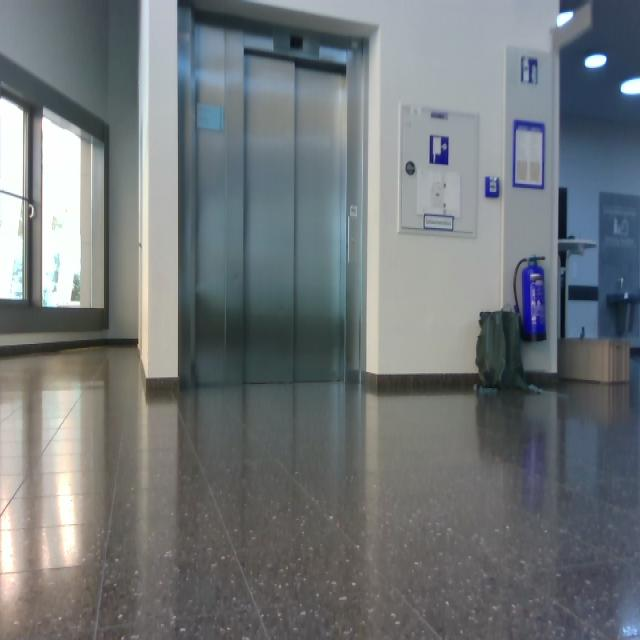door: (179, 12, 368, 387), (242, 48, 346, 384)
fire extinguisher: (513, 254, 546, 342)
light bulb: (619, 76, 639, 95), (583, 52, 606, 68), (555, 9, 573, 27), (18, 201, 34, 219)
tiled floor: (1, 342, 638, 638)
window: (0, 78, 108, 330)
